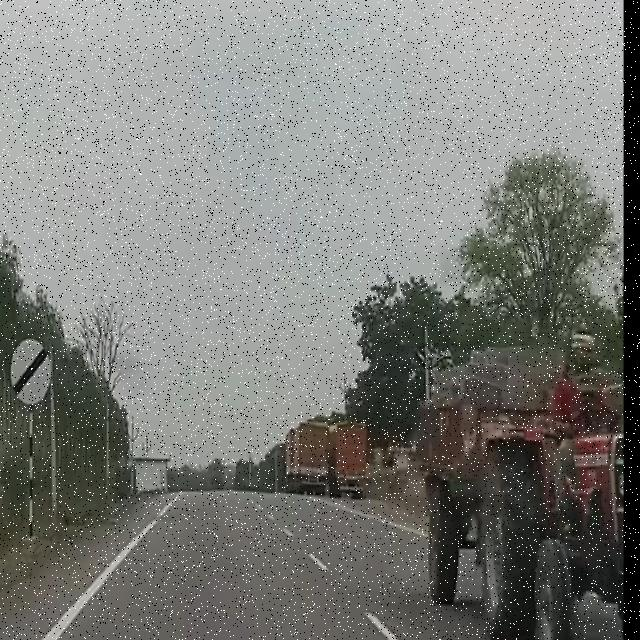No_overtaking: (9, 339, 52, 408)
